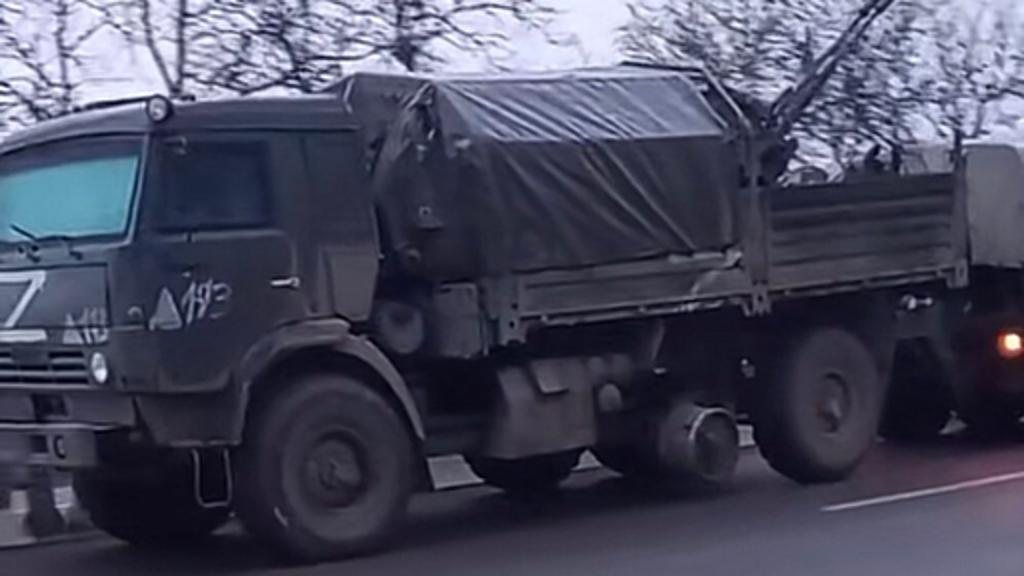TRUCK: (0, 60, 962, 558)
